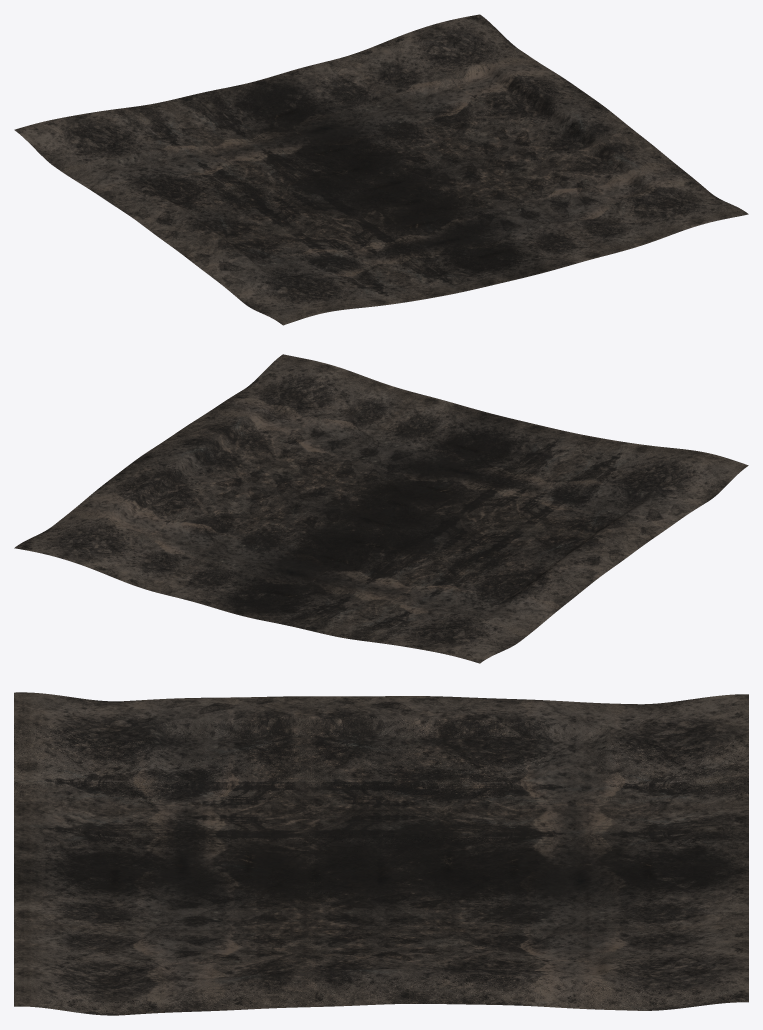
File: moth-season-terrain.glb
The picture shows the model from 3 angles, top to bottom: view 1: azimuth 30°, elevation 25°; view 2: azimuth 150°, elevation 25°; view 3: azimuth 270°, elevation 25°; orthographic projection. The views are drawn at different scales.
Parts seen in each view (by area): view 1: MothSeasonTerrain; view 2: MothSeasonTerrain; view 3: MothSeasonTerrain.
Boxes of the visible parts, <box> form: MothSeasonTerrain: <box>14,14,748,325</box>; MothSeasonTerrain: <box>14,354,748,663</box>; MothSeasonTerrain: <box>14,692,748,1015</box>.
Bounding box in the file's own units: 80 × 3.68 × 80.
Materials: 1 (1 with a texture image).
